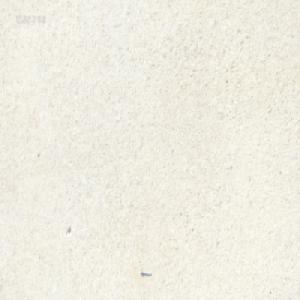Nail: (140, 269, 151, 277)
